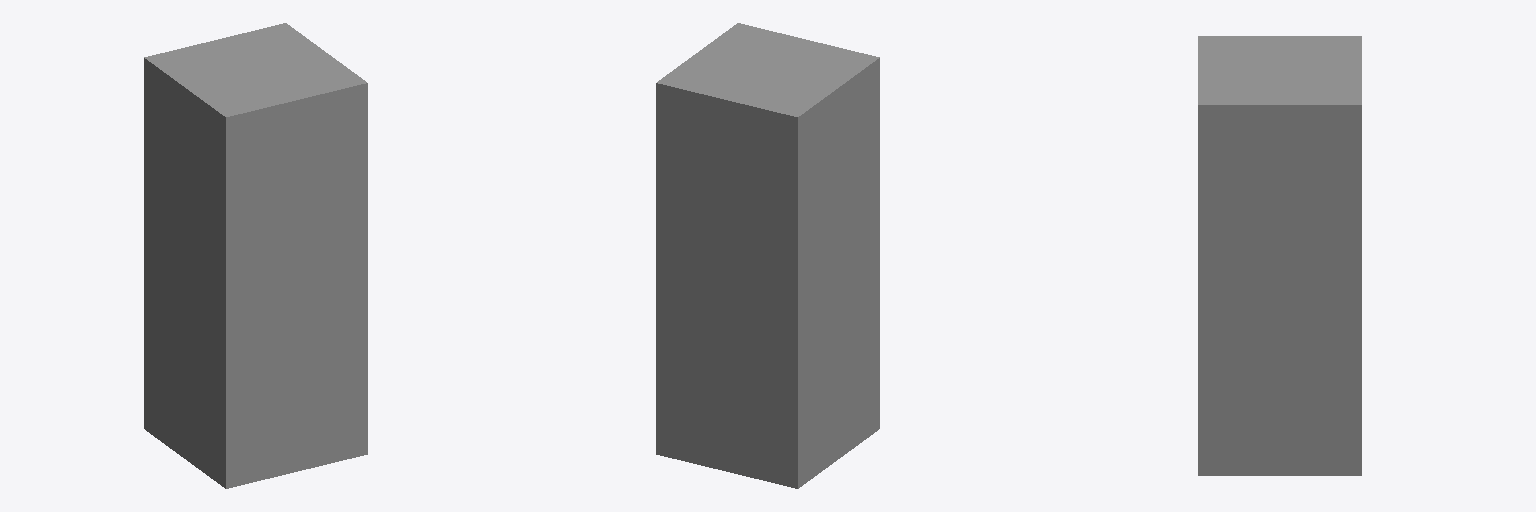
Rendered from fire.obj.
3 renders of one model, left to right at view 1: azimuth 30°, elevation 25°; view 2: azimuth 150°, elevation 25°; view 3: azimuth 270°, elevation 25°, orthographic.
Parts seen in each view (by area): view 1: Smoke_Domain_Cube; view 2: Smoke_Domain_Cube; view 3: Smoke_Domain_Cube.
Part boxes in pixels (x1,y1,x2,y2): Smoke_Domain_Cube: (144, 23, 367, 488); Smoke_Domain_Cube: (656, 23, 879, 488); Smoke_Domain_Cube: (1198, 36, 1361, 475).
Size of the model in its own units: 4 by 10 by 4.